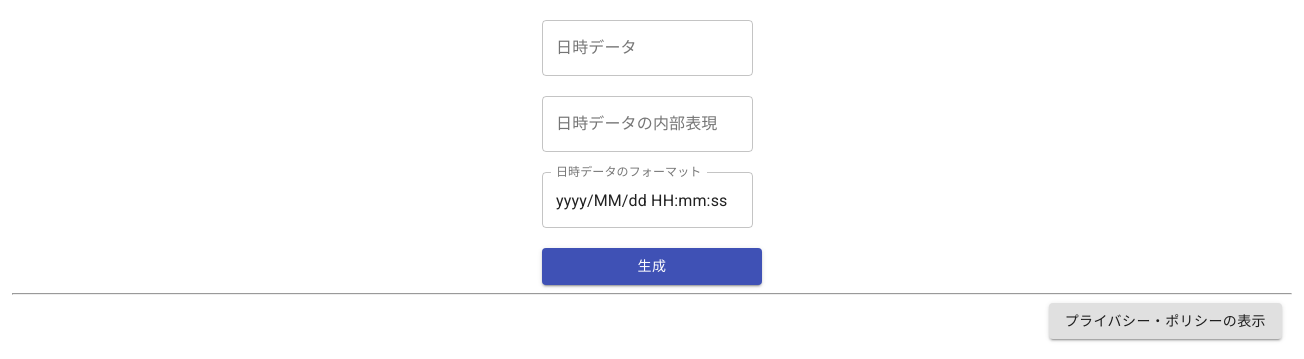
日時データのフォーマットの変更が、日時データに反映する › 日時データのフォーマットの変更が、日時データ(04/16)に反映する
Replace the text in the field labelled "日時データのフォーマット" with "MM/dd": (648, 200) 542,172 -> 753,228
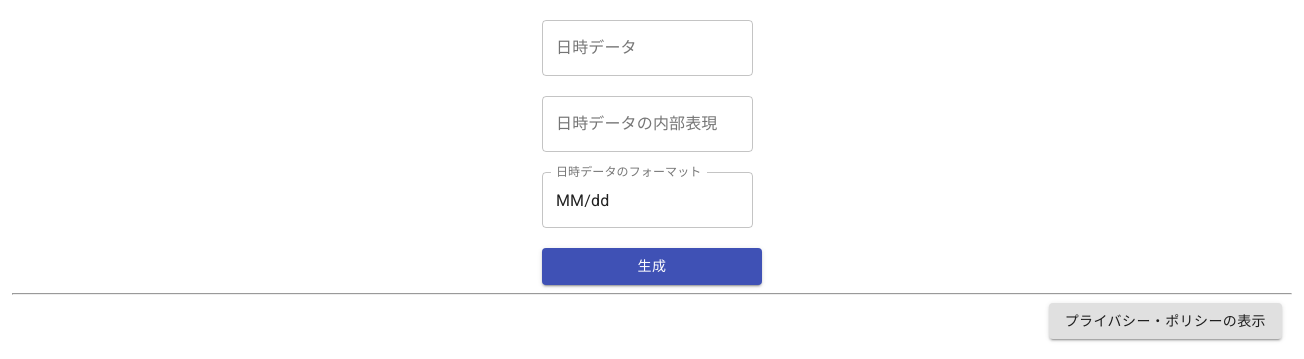
Click the button "生成": (652, 266) 542,248 -> 762,284
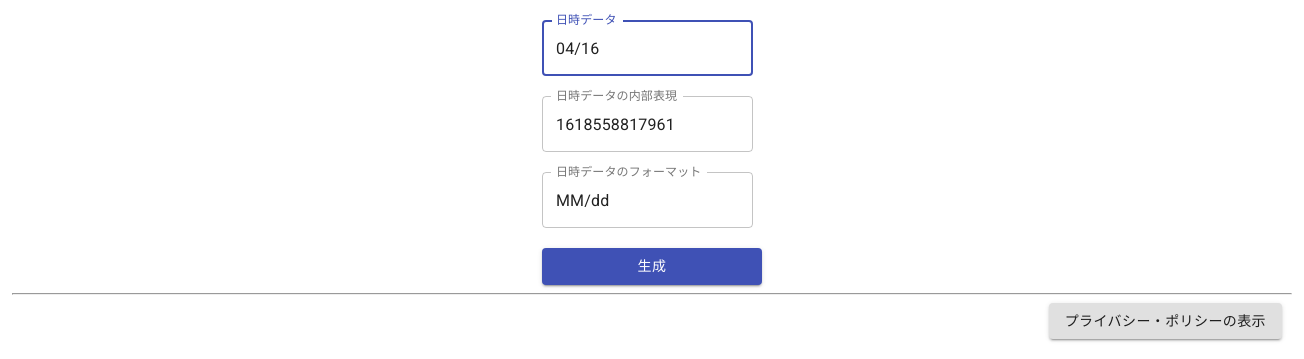
expect the field labelled "日時データ" holds "04/16": met, box 542,20 -> 753,76
